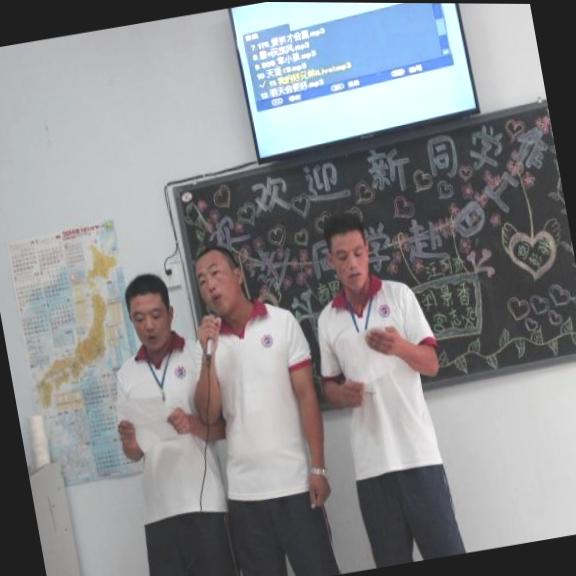no_safety_vest: (182, 288, 342, 513), (302, 265, 458, 480), (98, 333, 236, 532)
